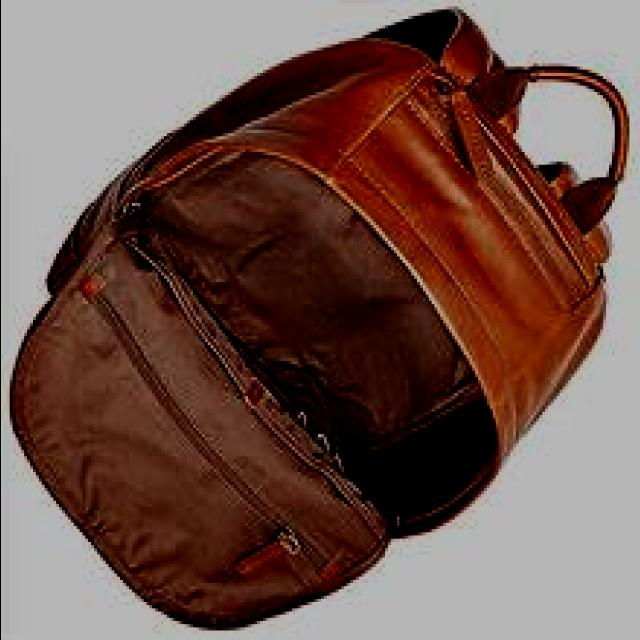backpack: (10, 4, 632, 632)
